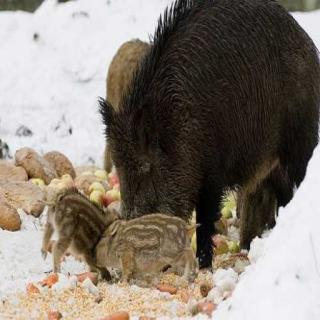Pig: (92, 15, 320, 261)
